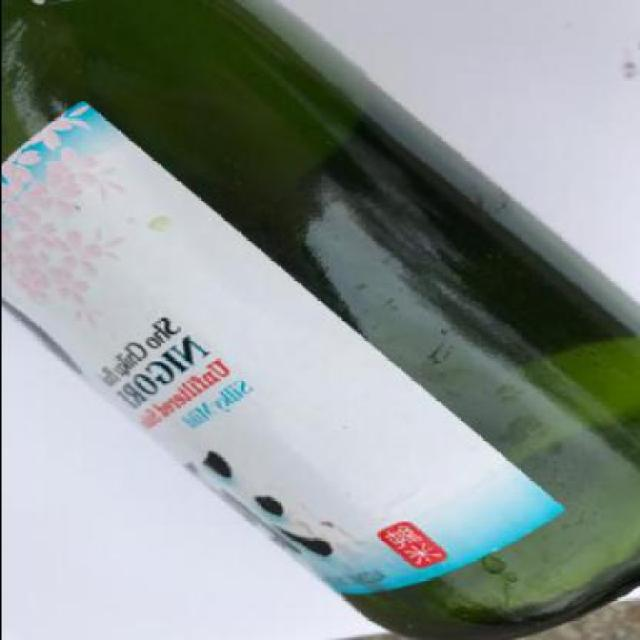GLASS: (0, 1, 638, 640)
PAPER: (0, 98, 567, 599)
